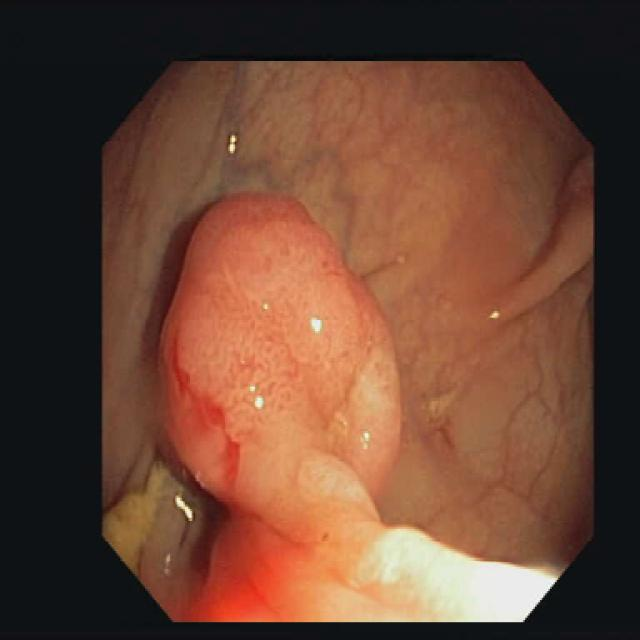tumor: (163, 193, 400, 540)
